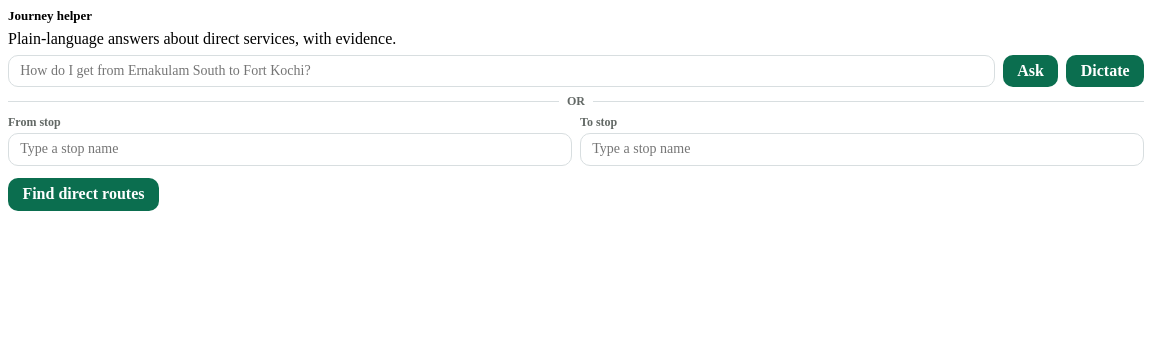
it: JourneyPanel › sends the chosen candidate with its context ids
In the field named "your journey question": coordinates (501, 71) [8,55,995,87], type "How do I get from North?"
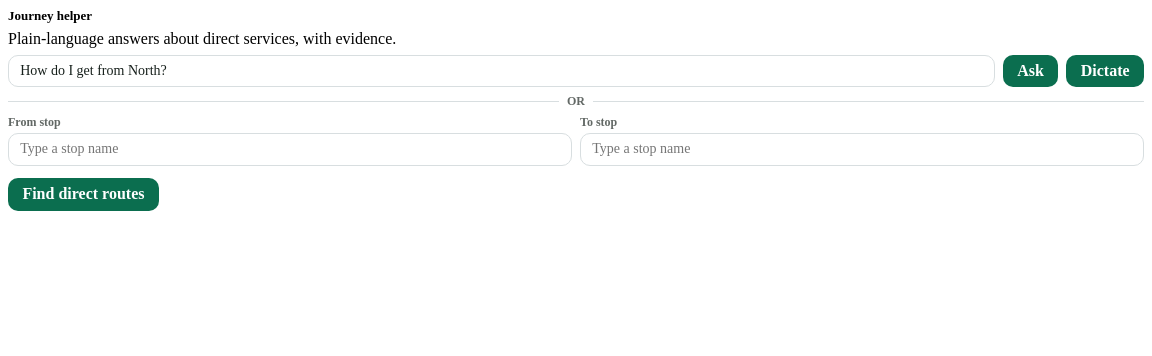
Click the button "Ask": coordinates (1031, 71) [1003,55,1058,87]
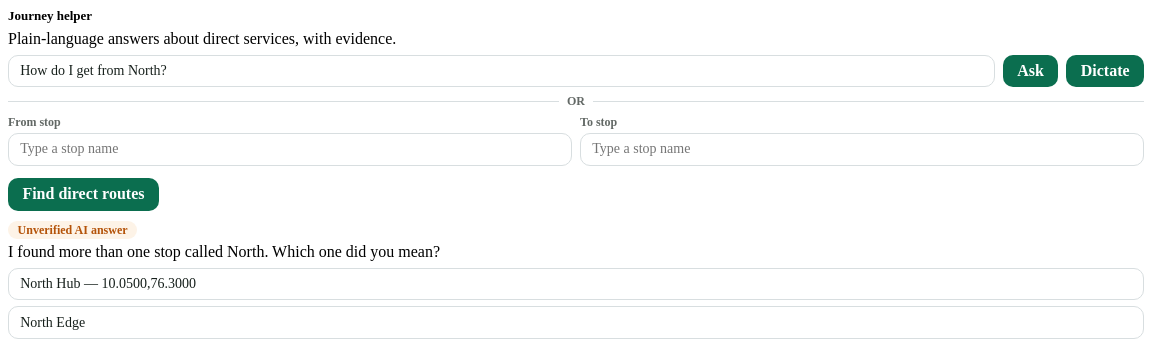
Click the button "North Hub — 10.0500,76.3000": coordinates (50, 283) [8,268,1144,300]
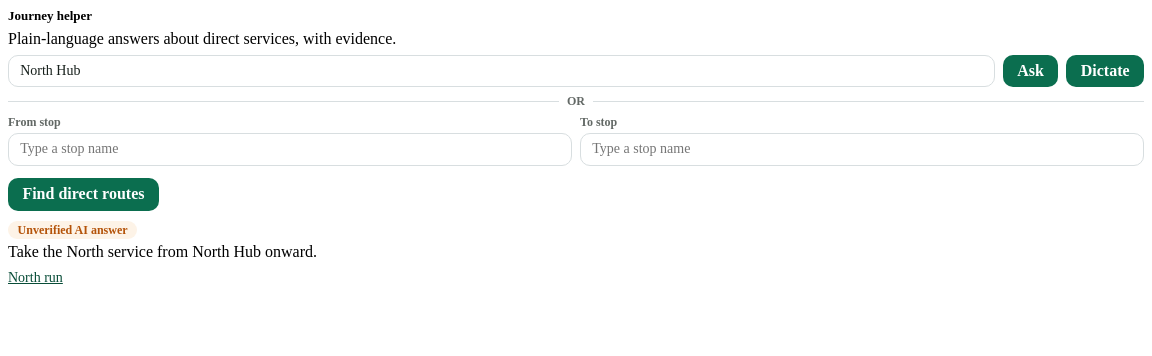
Result: the text "Take the North service from North Hub onward." is shown at [8,243,317,260]
